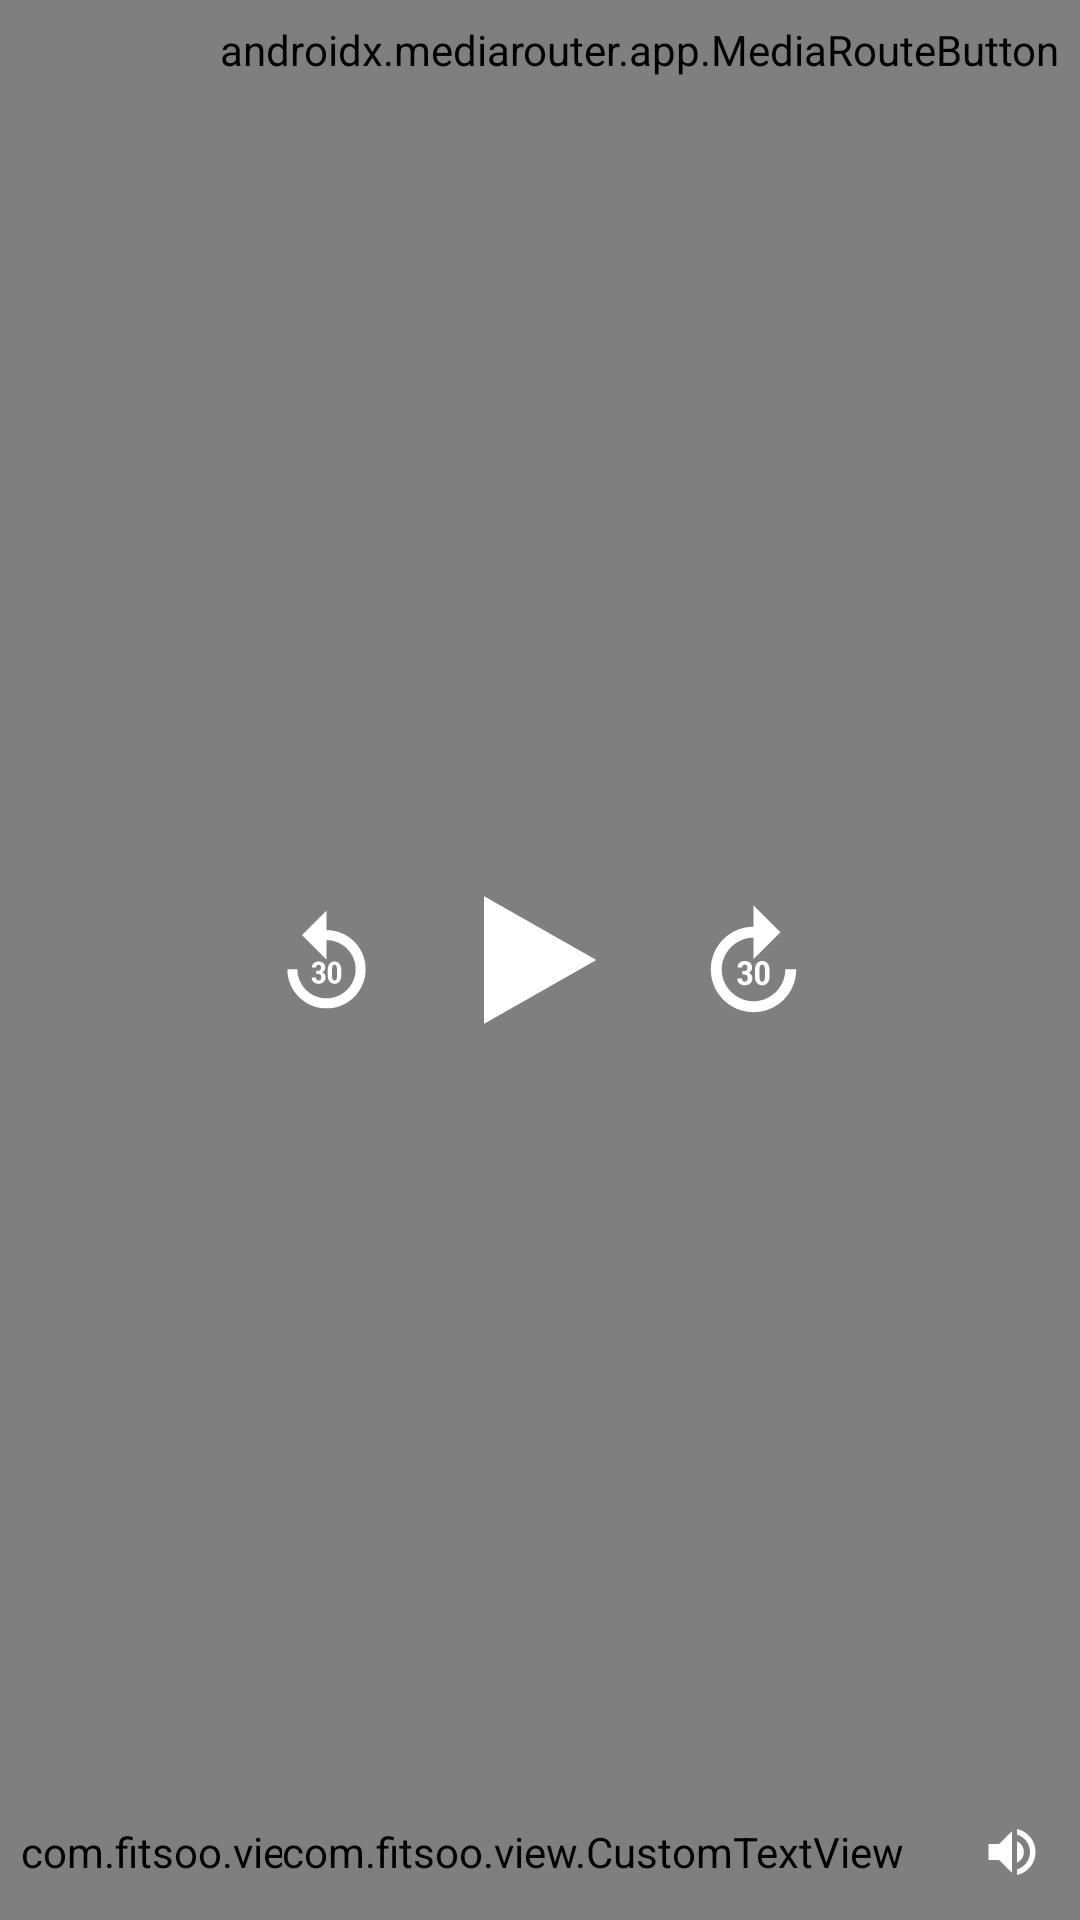

Icons on this 1080px×1920px Android screen, each with the point to tap as (x=x, y=y):
play triangular: (x=540, y=960)
sec backward: (x=326, y=960)
sec forward: (x=753, y=959)
volume: (x=1012, y=1852)
